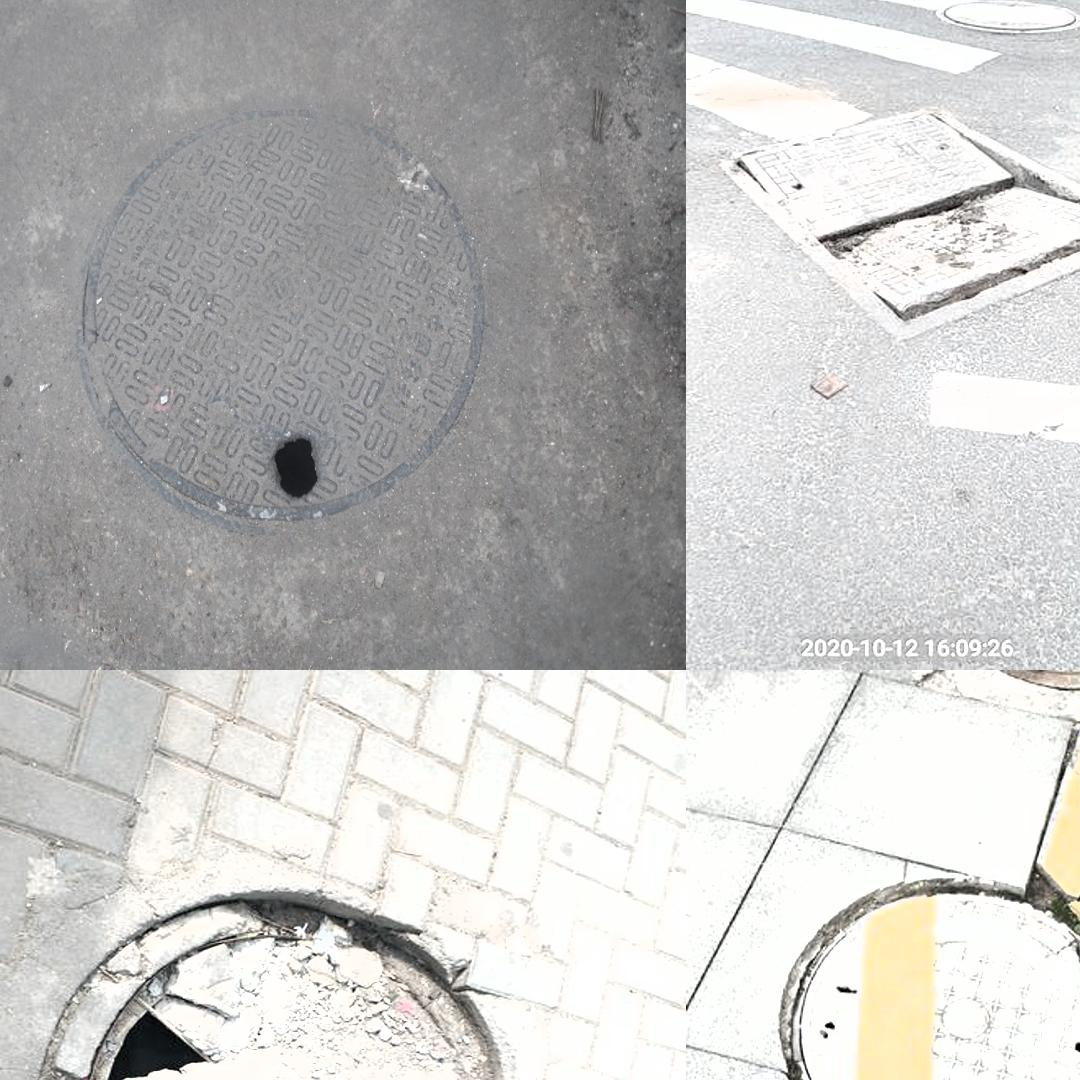broke: (79, 105, 488, 539), (16, 856, 514, 1080), (717, 81, 1080, 344), (767, 878, 1080, 1080)
